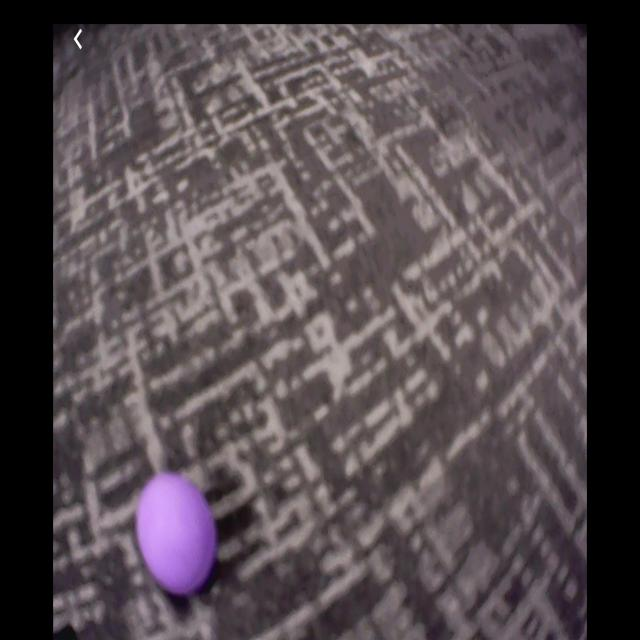ball: (139, 470, 217, 595)
